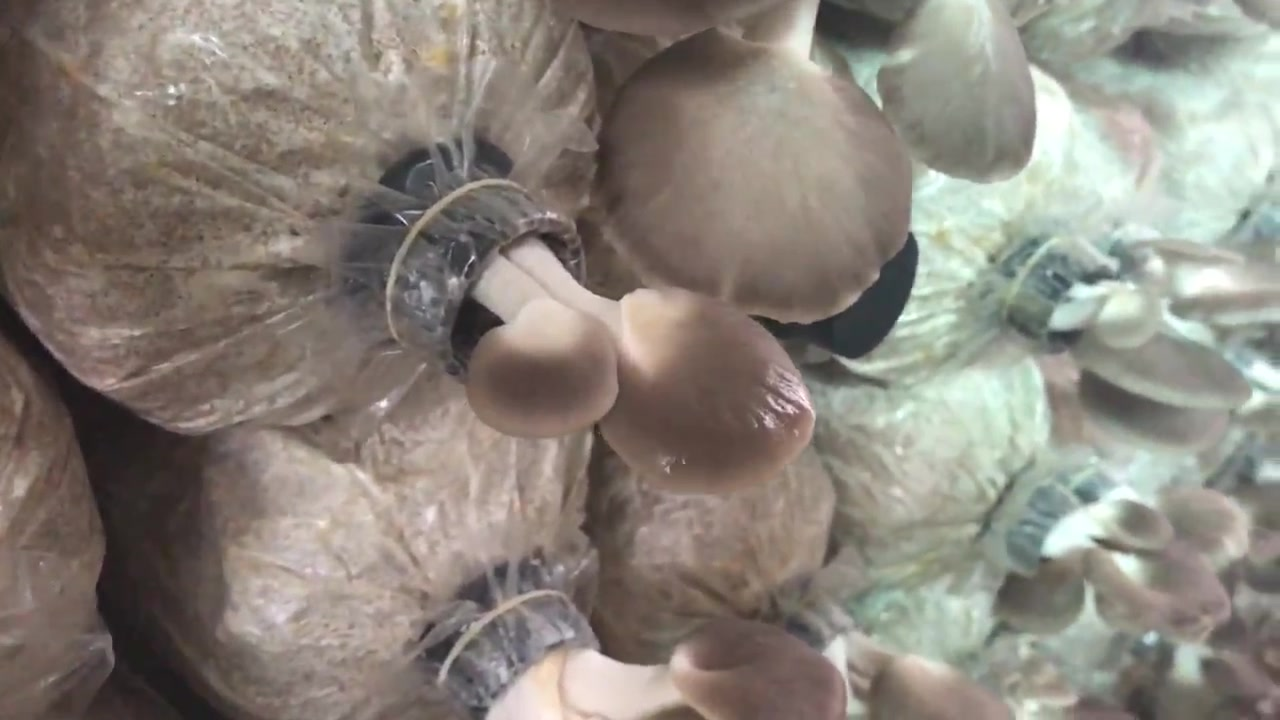nam: (552, 2, 1038, 327), (377, 173, 820, 505), (992, 235, 1271, 457), (453, 587, 848, 720), (989, 475, 1250, 638), (782, 603, 1020, 717)
